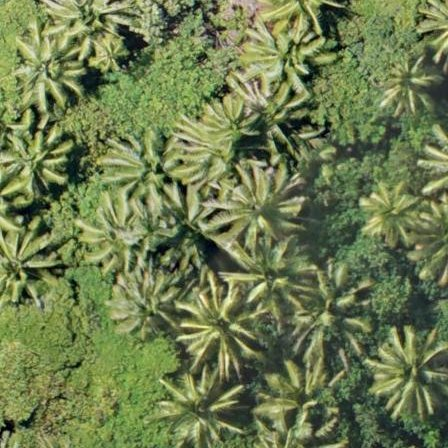palm_tree: (254, 351, 346, 448), (206, 159, 294, 253), (8, 23, 87, 118), (104, 263, 185, 350), (371, 327, 448, 415), (1, 113, 75, 203), (177, 280, 255, 363), (160, 368, 236, 448), (243, 29, 334, 92), (1, 216, 60, 307), (103, 131, 177, 202), (77, 197, 148, 269), (374, 53, 438, 114), (359, 181, 416, 242), (203, 94, 260, 155), (258, 1, 339, 36), (90, 36, 133, 71)
